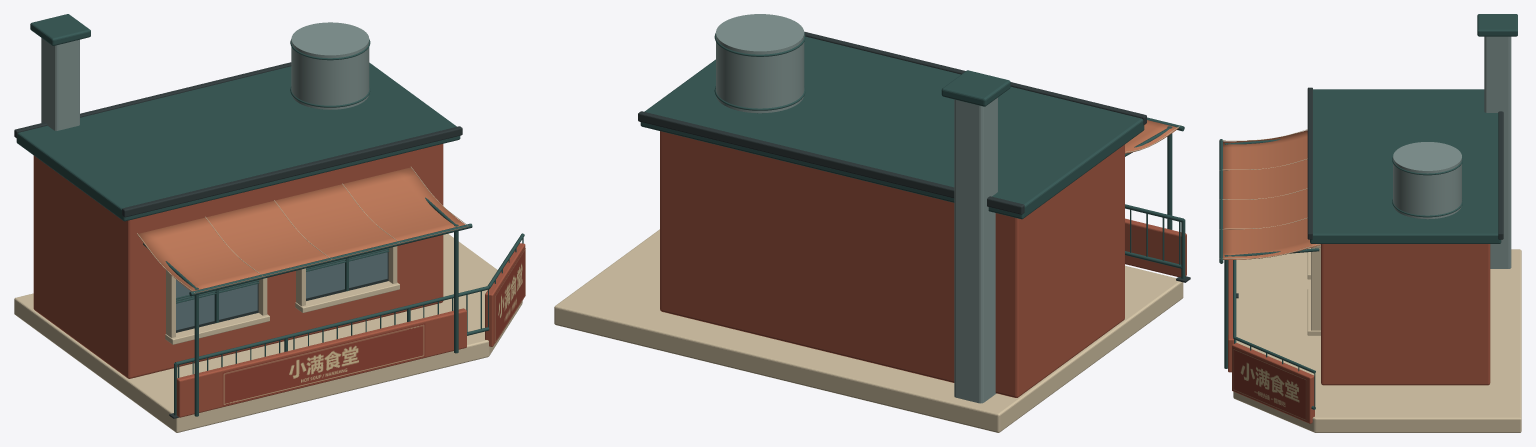
The model's file is DinerUpper.glb.
3 views of the same model, side by side, from view 1: azimuth 30°, elevation 25°; view 2: azimuth 150°, elevation 25°; view 3: azimuth 270°, elevation 25° (orthographic). The views are drawn at different scales.
Visible parts, largest first — view 1: DinerUpper_NX_WindowSteel, DinerUpper_NX_RedPlaster, DinerUpper_NX_Canvas, DinerUpper_NX_IvoryConcrete, DinerUpper_NX_DuctSteel, DinerUpper_NX_RestaurantWide, DinerUpper_NX_BlackSteel, DinerUpper_NX_UpperGlazing, DinerUpper_NX_RestaurantCorner; view 2: DinerUpper_NX_RedPlaster, DinerUpper_NX_WindowSteel, DinerUpper_NX_IvoryConcrete, DinerUpper_NX_DuctSteel, DinerUpper_NX_BlackSteel, DinerUpper_NX_Canvas; view 3: DinerUpper_NX_WindowSteel, DinerUpper_NX_RedPlaster, DinerUpper_NX_IvoryConcrete, DinerUpper_NX_Canvas, DinerUpper_NX_DuctSteel, DinerUpper_NX_RestaurantCorner, DinerUpper_NX_BlackSteel.
Part boxes in pixels (x1,y1,x2,y2): DinerUpper_NX_WindowSteel: [16, 14, 524, 416]; DinerUpper_NX_RedPlaster: [33, 144, 525, 417]; DinerUpper_NX_Canvas: [137, 167, 467, 293]; DinerUpper_NX_IvoryConcrete: [14, 167, 522, 432]; DinerUpper_NX_DuctSteel: [41, 22, 369, 130]; DinerUpper_NX_RestaurantWide: [222, 323, 425, 405]; DinerUpper_NX_BlackSteel: [14, 62, 462, 418]; DinerUpper_NX_UpperGlazing: [176, 250, 387, 330]; DinerUpper_NX_RestaurantCorner: [495, 248, 525, 342]; DinerUpper_NX_RedPlaster: [660, 131, 1186, 397]; DinerUpper_NX_WindowSteel: [640, 33, 1185, 278]; DinerUpper_NX_IvoryConcrete: [554, 125, 1183, 432]; DinerUpper_NX_DuctSteel: [716, 14, 997, 403]; DinerUpper_NX_BlackSteel: [638, 31, 1190, 282]; DinerUpper_NX_Canvas: [1125, 120, 1178, 153]; DinerUpper_NX_WindowSteel: [1219, 14, 1517, 409]; DinerUpper_NX_RedPlaster: [1228, 244, 1490, 423]; DinerUpper_NX_IvoryConcrete: [1222, 129, 1521, 432]; DinerUpper_NX_Canvas: [1223, 130, 1320, 259]; DinerUpper_NX_DuctSteel: [1393, 36, 1511, 268]; DinerUpper_NX_RestaurantCorner: [1233, 348, 1306, 421]; DinerUpper_NX_BlackSteel: [1236, 87, 1503, 298].
Size of the model in its own units: 6.58 by 4.52 by 4.82.
Materials: 9 (2 with a texture image).
